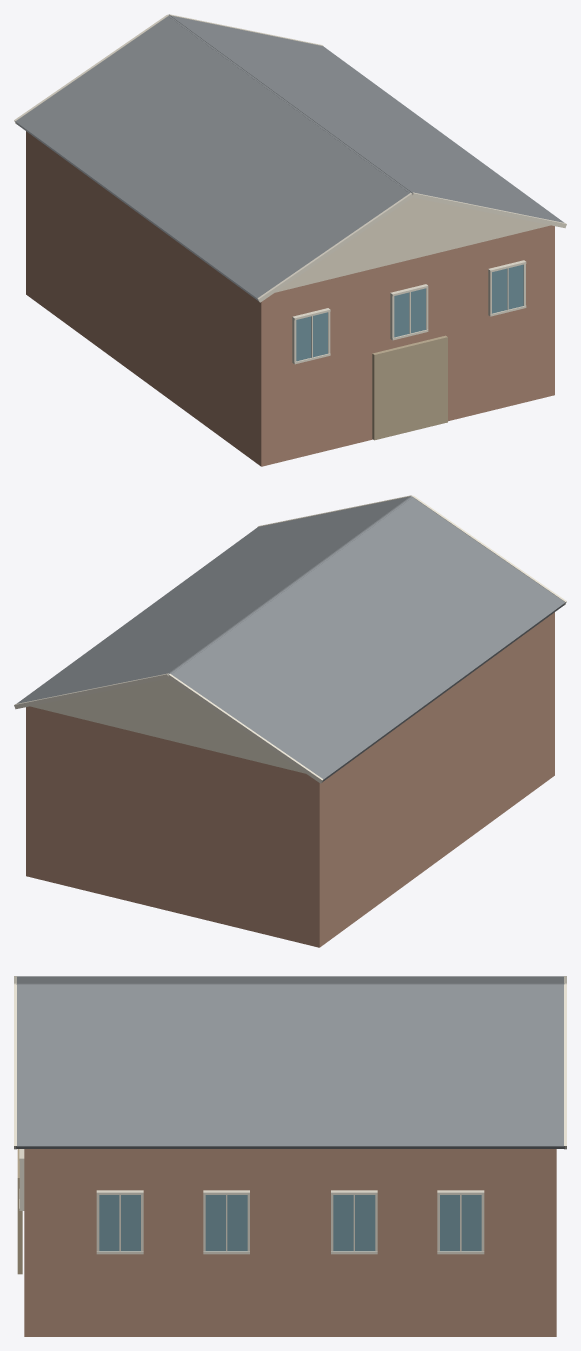
File: tyne-warehouse_lod0.glb
The picture shows the model from 3 angles, top to bottom: view 1: azimuth 30°, elevation 25°; view 2: azimuth 150°, elevation 25°; view 3: azimuth 270°, elevation 25°; orthographic projection. The views are drawn at different scales.
Parts seen in each view (by area): view 1: RF_IndustrialHall, RF_Roof.001, RF_Roof, RF_Gable, RF_LoadingDoor, RF_Window, RF_Window.005, RF_Window.006, RF_Vergeband.001, RF_Vergeband.003, RF_Ridge; view 2: RF_IndustrialHall, RF_Roof.001, RF_Roof, RF_Gable.001, RF_Vergeband.002, RF_Vergeband, RF_Ridge; view 3: RF_Roof, RF_IndustrialHall, RF_Roof.001, RF_Window.002, RF_Window.003, RF_Window.001, RF_Window.004, RF_LoadingDoor, RF_Ridge, RF_Vergeband.003, RF_Vergeband.
Part boxes in pixels (left/top/right/bottom): RF_IndustrialHall: left=26, top=131, right=554, bottom=466; RF_Roof.001: left=15, top=16, right=410, bottom=301; RF_Roof: left=170, top=15, right=564, bottom=222; RF_Gable: left=275, top=197, right=550, bottom=292; RF_LoadingDoor: left=372, top=335, right=447, bottom=440; RF_Window: left=492, top=264, right=523, bottom=313; RF_Window.005: left=296, top=312, right=327, bottom=361; RF_Window.006: left=394, top=288, right=425, bottom=337; RF_Vergeband.001: left=257, top=193, right=413, bottom=302; RF_Vergeband.003: left=412, top=192, right=566, bottom=228; RF_Ridge: left=168, top=15, right=412, bottom=193; RF_IndustrialHall: left=26, top=612, right=554, bottom=947; RF_Roof.001: left=170, top=497, right=565, bottom=782; RF_Roof: left=16, top=496, right=410, bottom=703; RF_Gable.001: left=30, top=678, right=305, bottom=773; RF_Vergeband.002: left=167, top=674, right=323, bottom=783; RF_Vergeband: left=14, top=673, right=168, bottom=709; RF_Ridge: left=168, top=496, right=412, bottom=674; RF_Roof: left=16, top=984, right=564, bottom=1148; RF_IndustrialHall: left=24, top=1149, right=556, bottom=1336; RF_Roof.001: left=16, top=976, right=564, bottom=984; RF_Window.002: left=205, top=1195, right=247, bottom=1251; RF_Window.003: left=333, top=1195, right=375, bottom=1251; RF_Window.001: left=99, top=1195, right=140, bottom=1251; RF_Window.004: left=440, top=1195, right=481, bottom=1251; RF_LoadingDoor: left=17, top=1149, right=22, bottom=1274; RF_Ridge: left=17, top=984, right=563, bottom=984; RF_Vergeband.003: left=14, top=984, right=16, bottom=1149; RF_Vergeband: left=564, top=984, right=566, bottom=1149.
Size of the model in its own units: 18.89 by 14.11 by 25.98.
